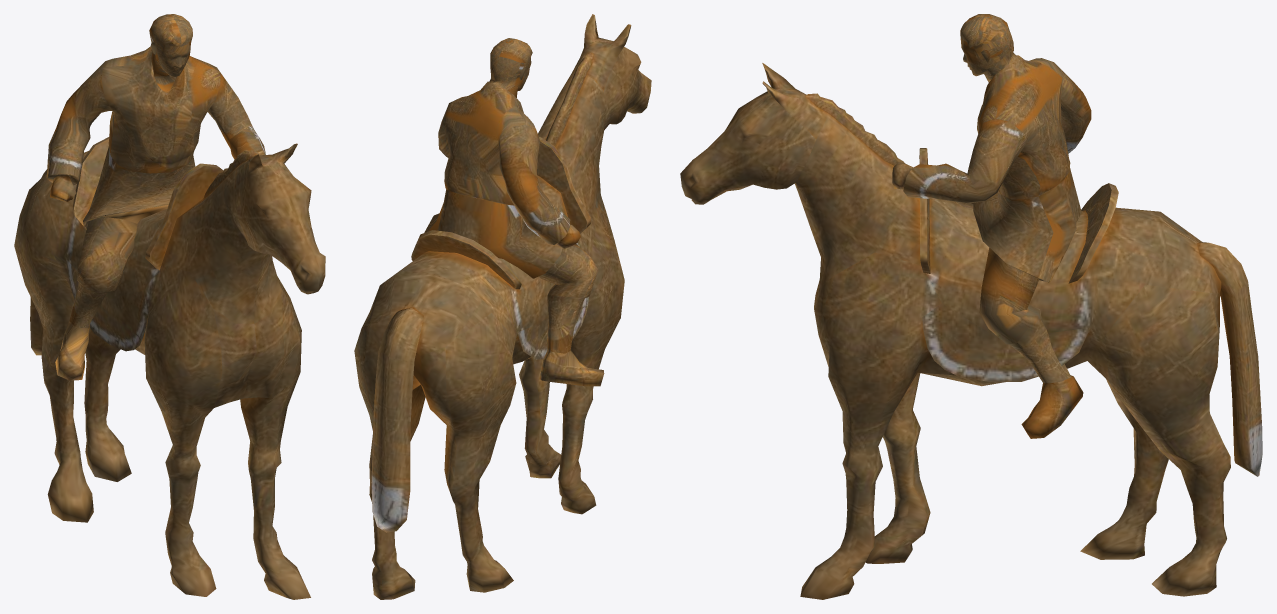
The model's file is 255-terracottarider.glb.
The picture shows the model from 3 angles, left to right: view 1: azimuth 30°, elevation 25°; view 2: azimuth 150°, elevation 25°; view 3: azimuth 270°, elevation 25°; orthographic projection. The views are drawn at different scales.
Size of the model in its own units: 1.15 by 2.8 by 2.66.
Materials: 1 (1 with a texture image).
